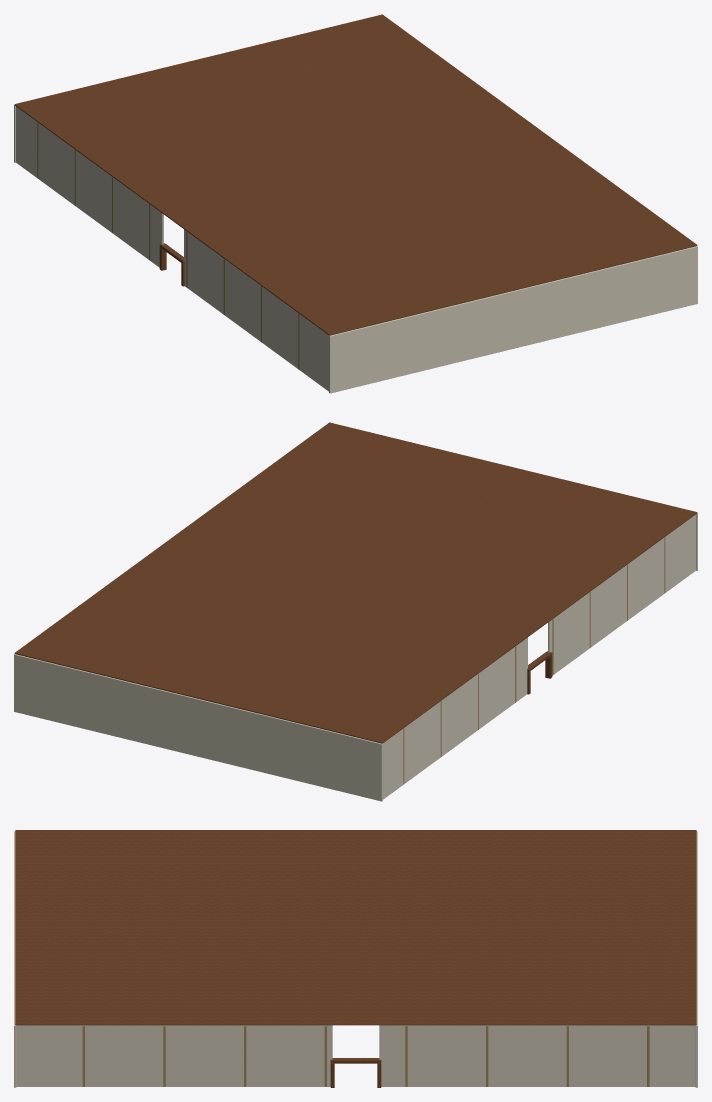
Rendered from SOL_D11_directory_11_source001.glb.
3 renders of one model, top to bottom at view 1: azimuth 30°, elevation 25°; view 2: azimuth 150°, elevation 25°; view 3: azimuth 270°, elevation 25°, orthographic. The views are drawn at different scales.
Parts seen in each view (by area): view 1: E_ceiling, E_outer_north, E_outer_west0, E_outer_west1; view 2: E_ceiling, E_outer_south, E_outer_west1, E_outer_west0; view 3: E_ceiling, E_outer_east0, E_outer_east1, E_outer_south, E_outer_north.
Part boxes in pixels (x1=…): E_ceiling: x1=14, y1=14, x2=697, y2=335; E_outer_north: x1=329, y1=246, x2=697, y2=393; E_outer_west0: x1=16, y1=106, x2=163, y2=267; E_outer_west1: x1=184, y1=229, x2=328, y2=391; E_ceiling: x1=14, y1=422, x2=697, y2=743; E_outer_south: x1=14, y1=654, x2=382, y2=801; E_outer_west1: x1=548, y1=514, x2=695, y2=674; E_outer_west0: x1=383, y1=637, x2=527, y2=799; E_ceiling: x1=15, y1=830, x2=696, y2=1025; E_outer_east0: x1=379, y1=1025, x2=695, y2=1086; E_outer_east1: x1=16, y1=1025, x2=332, y2=1086; E_outer_south: x1=695, y1=831, x2=697, y2=1087; E_outer_north: x1=14, y1=831, x2=16, y2=1087.
Size of the model in its own units: 45.75 by 6.94 by 67.84.
10 materials, 10 textured.
